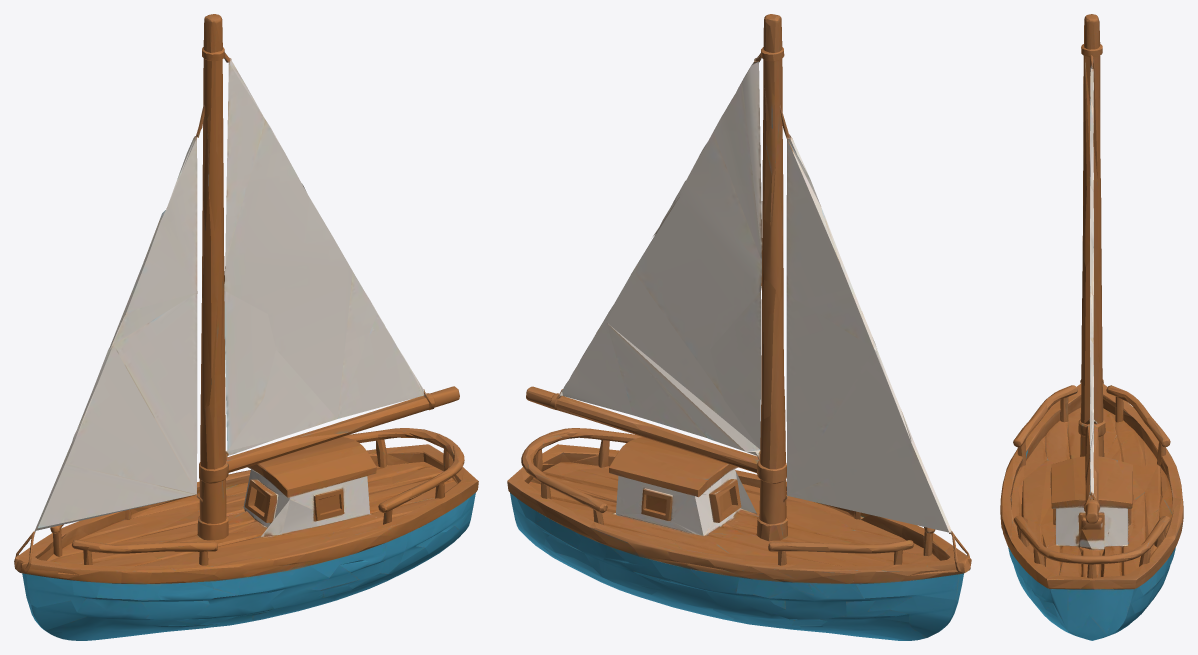
Rendered from sailboat.glb.
The picture shows the model from 3 angles, left to right: view 1: azimuth 30°, elevation 25°; view 2: azimuth 150°, elevation 25°; view 3: azimuth 270°, elevation 25°; orthographic projection. The views are drawn at different scales.
Bounding box in the file's own units: 5.4 × 7 × 2.15.
Materials: 1 (1 with a texture image).
